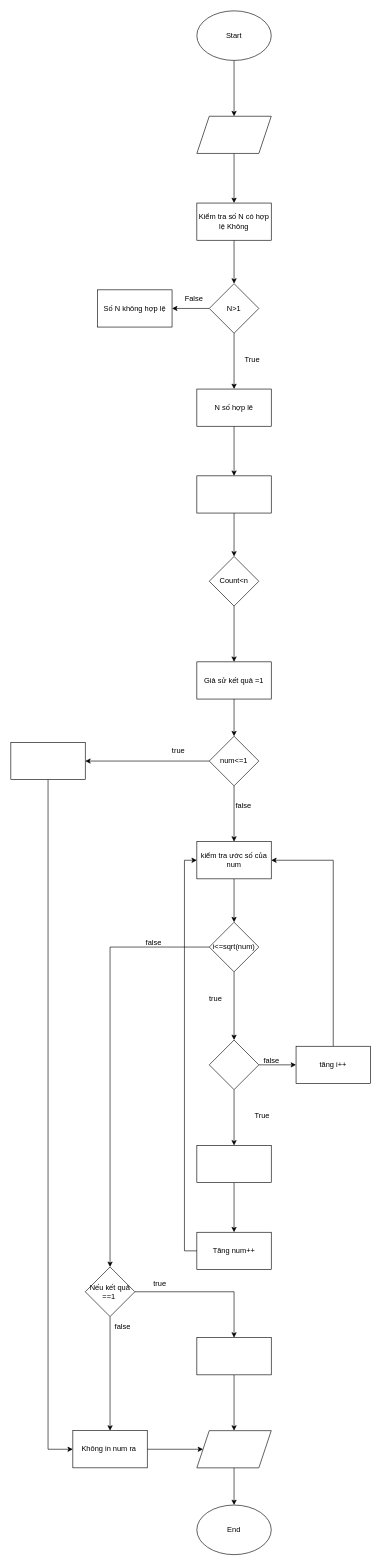
The diagram is 381 pixels wide and 1566 high, and some of its shapes have lost their labels. Each missing label, with the centre of its shape:
Dùng vòng lặp while cho count =0, num=2: (x=233, y=494)
In kết quả ra màn hình: (x=233, y=1449)
In num ra: (x=233, y=1356)
kết quả= 0: (x=47, y=761)
kết quả=0: (x=233, y=1164)
Nhập số N số nguyên tố vào: (x=233, y=134)
num % i==0: (x=234, y=1064)
